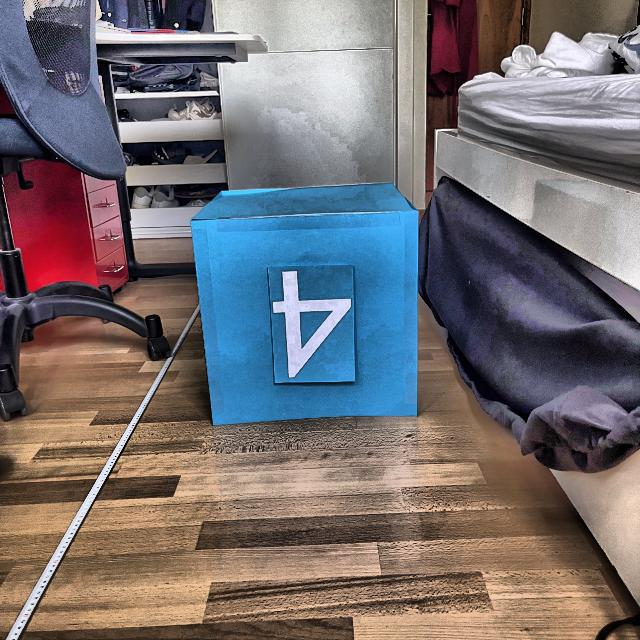blue box: (184, 179, 426, 428)
four: (266, 267, 355, 383)
